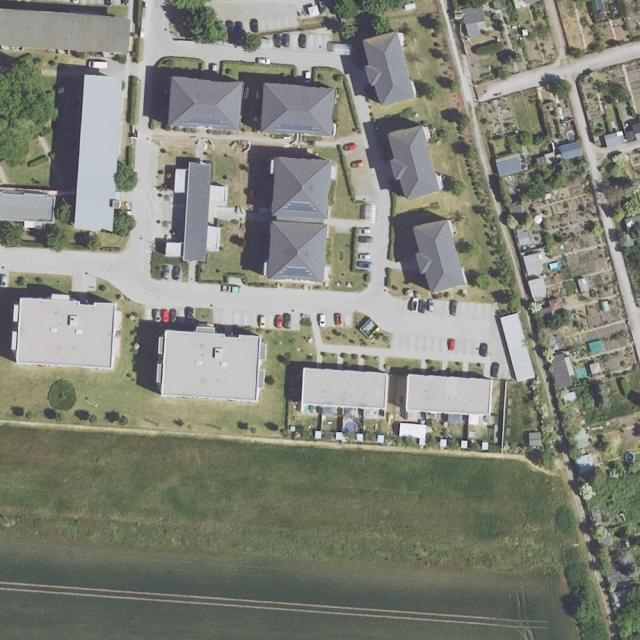PV: (182, 116, 227, 126), (274, 123, 320, 132), (284, 201, 317, 212), (280, 267, 312, 278)
